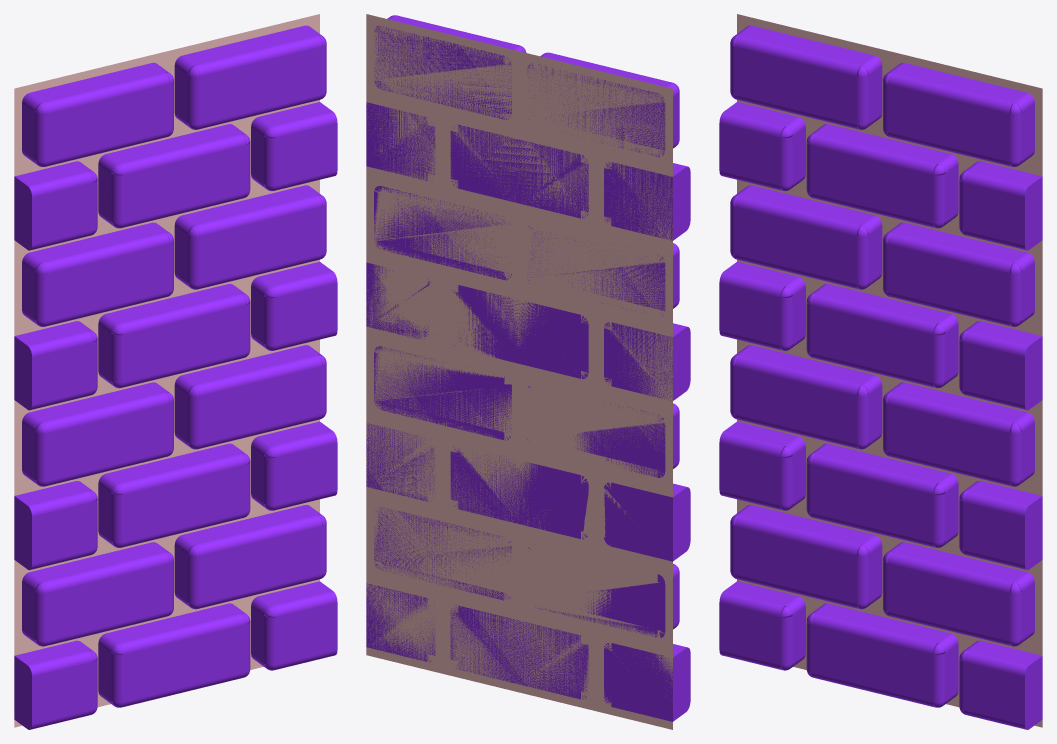
File: wall_2_b.dae
The picture shows the model from 3 angles, left to right: view 1: azimuth 30°, elevation 25°; view 2: azimuth 150°, elevation 25°; view 3: azimuth 330°, elevation 25°; orthographic projection.
Parts seen in each view (by area): view 1: brick_half (×16), group_8 (×8), group_5 (×16), group_12 (×8), group_7 (×8), group_15 (×8), group_6 (×8), group_11 (×8), group_1 (×4); view 2: group_7 (×8), group_1 (×16), brick_half (×16), group_8 (×8); view 3: brick_half (×16), group_8 (×8), group_5 (×16), group_12 (×8), group_7 (×8), group_15 (×8), group_6 (×8), group_16 (×8), group_1 (×4).
Part boxes in pixels (x1,y1,x2,y2): brick_half (×16): (14, 102, 337, 728); group_8 (×8): (22, 25, 322, 640); group_5 (×16): (27, 111, 337, 676); group_12 (×8): (43, 35, 322, 592); group_7 (×8): (14, 14, 319, 647); group_15 (×8): (46, 94, 322, 645); group_6 (×8): (111, 136, 276, 702); group_11 (×8): (35, 75, 199, 641); group_1 (×4): (91, 137, 167, 707); group_7 (×8): (366, 14, 672, 649); group_1 (×16): (366, 94, 672, 729); brick_half (×16): (366, 102, 690, 721); group_8 (×8): (374, 16, 678, 637); brick_half (×16): (719, 102, 1042, 728); group_8 (×8): (734, 25, 1034, 640); group_5 (×16): (719, 111, 1029, 676); group_12 (×8): (734, 35, 1013, 592); group_7 (×8): (737, 14, 1042, 647); group_15 (×8): (734, 94, 1010, 645); group_6 (×8): (780, 136, 945, 702); group_16 (×8): (857, 75, 1021, 641); group_1 (×4): (889, 137, 965, 707).
Bounding box in the file's own units: 39.37 × 3.94 × 78.74.
